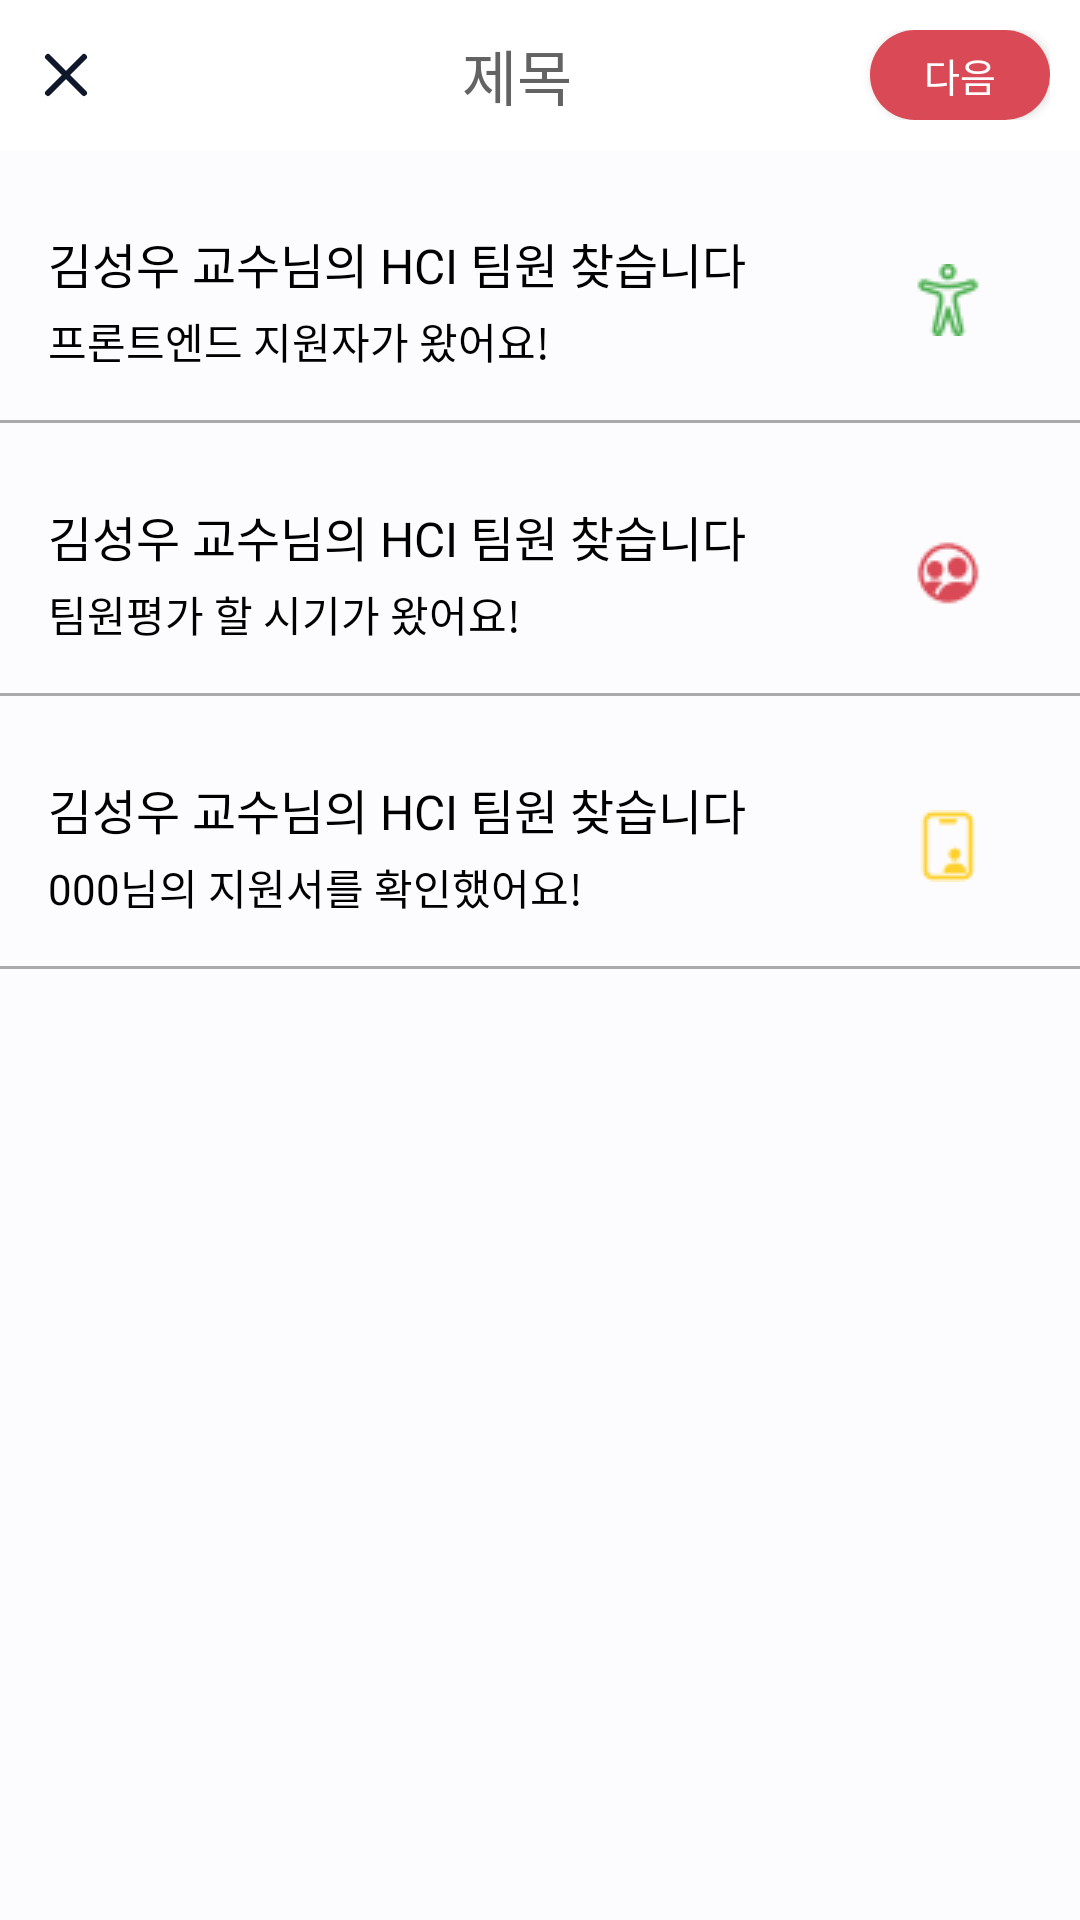

Icon bounding boxes for this 1080w x 1920h phone screenshot, format (x1, y1, x2, y2):
accessibility: (917, 264, 979, 336)
delete: (45, 53, 87, 96)
id card: (921, 810, 975, 882)
people circle: (917, 542, 979, 604)
